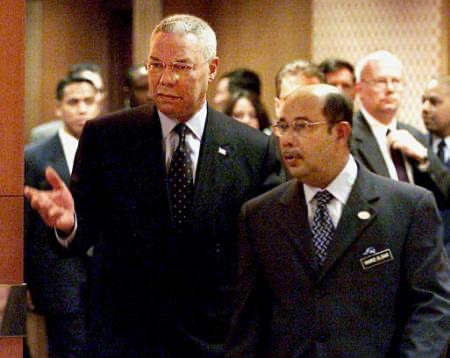Face: (148, 34, 210, 123), (272, 110, 330, 182), (360, 63, 410, 119), (59, 88, 99, 137), (419, 85, 450, 134), (229, 95, 264, 137), (325, 69, 357, 107), (207, 74, 232, 120), (131, 67, 157, 111)
